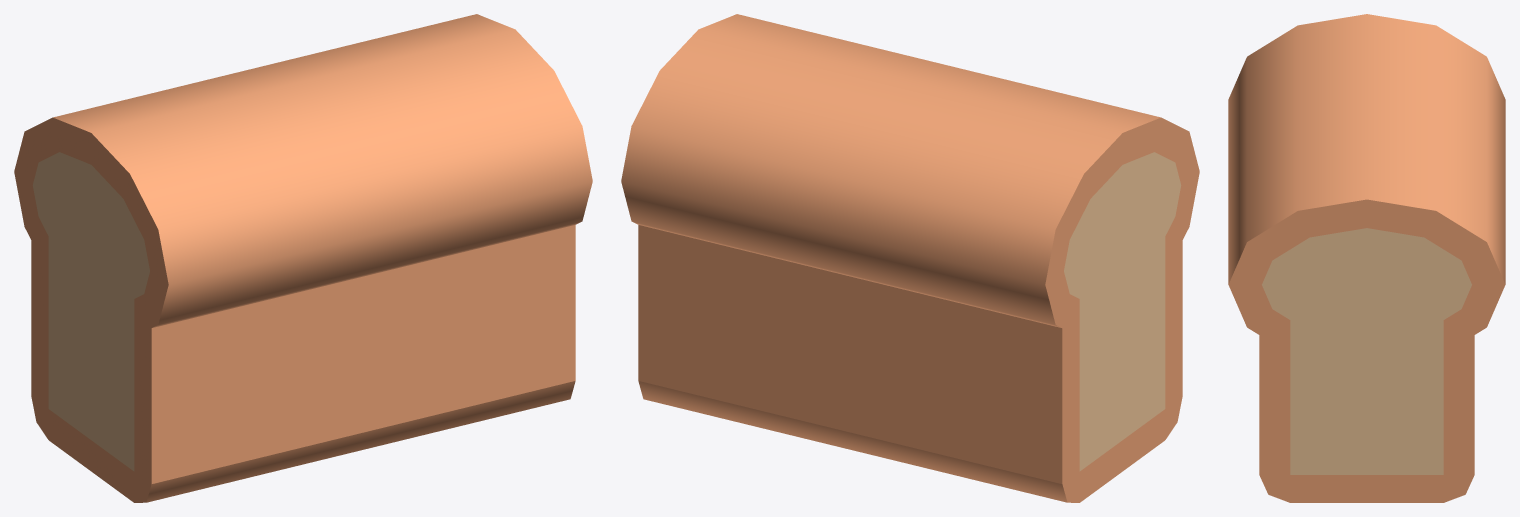
File: loaf.obj
The picture shows the model from 3 angles, left to right: view 1: azimuth 30°, elevation 25°; view 2: azimuth 150°, elevation 25°; view 3: azimuth 270°, elevation 25°; orthographic projection. The views are drawn at different scales.
Parts seen in each view (by area): view 1: loaf; view 2: loaf; view 3: loaf.
Part boxes in pixels (<box>): loaf: <box>14,14,592,502</box>; loaf: <box>621,14,1199,502</box>; loaf: <box>1228,14,1505,502</box>.
Bounding box in the file's own units: 0.5797 × 0.4423 × 0.3659.
